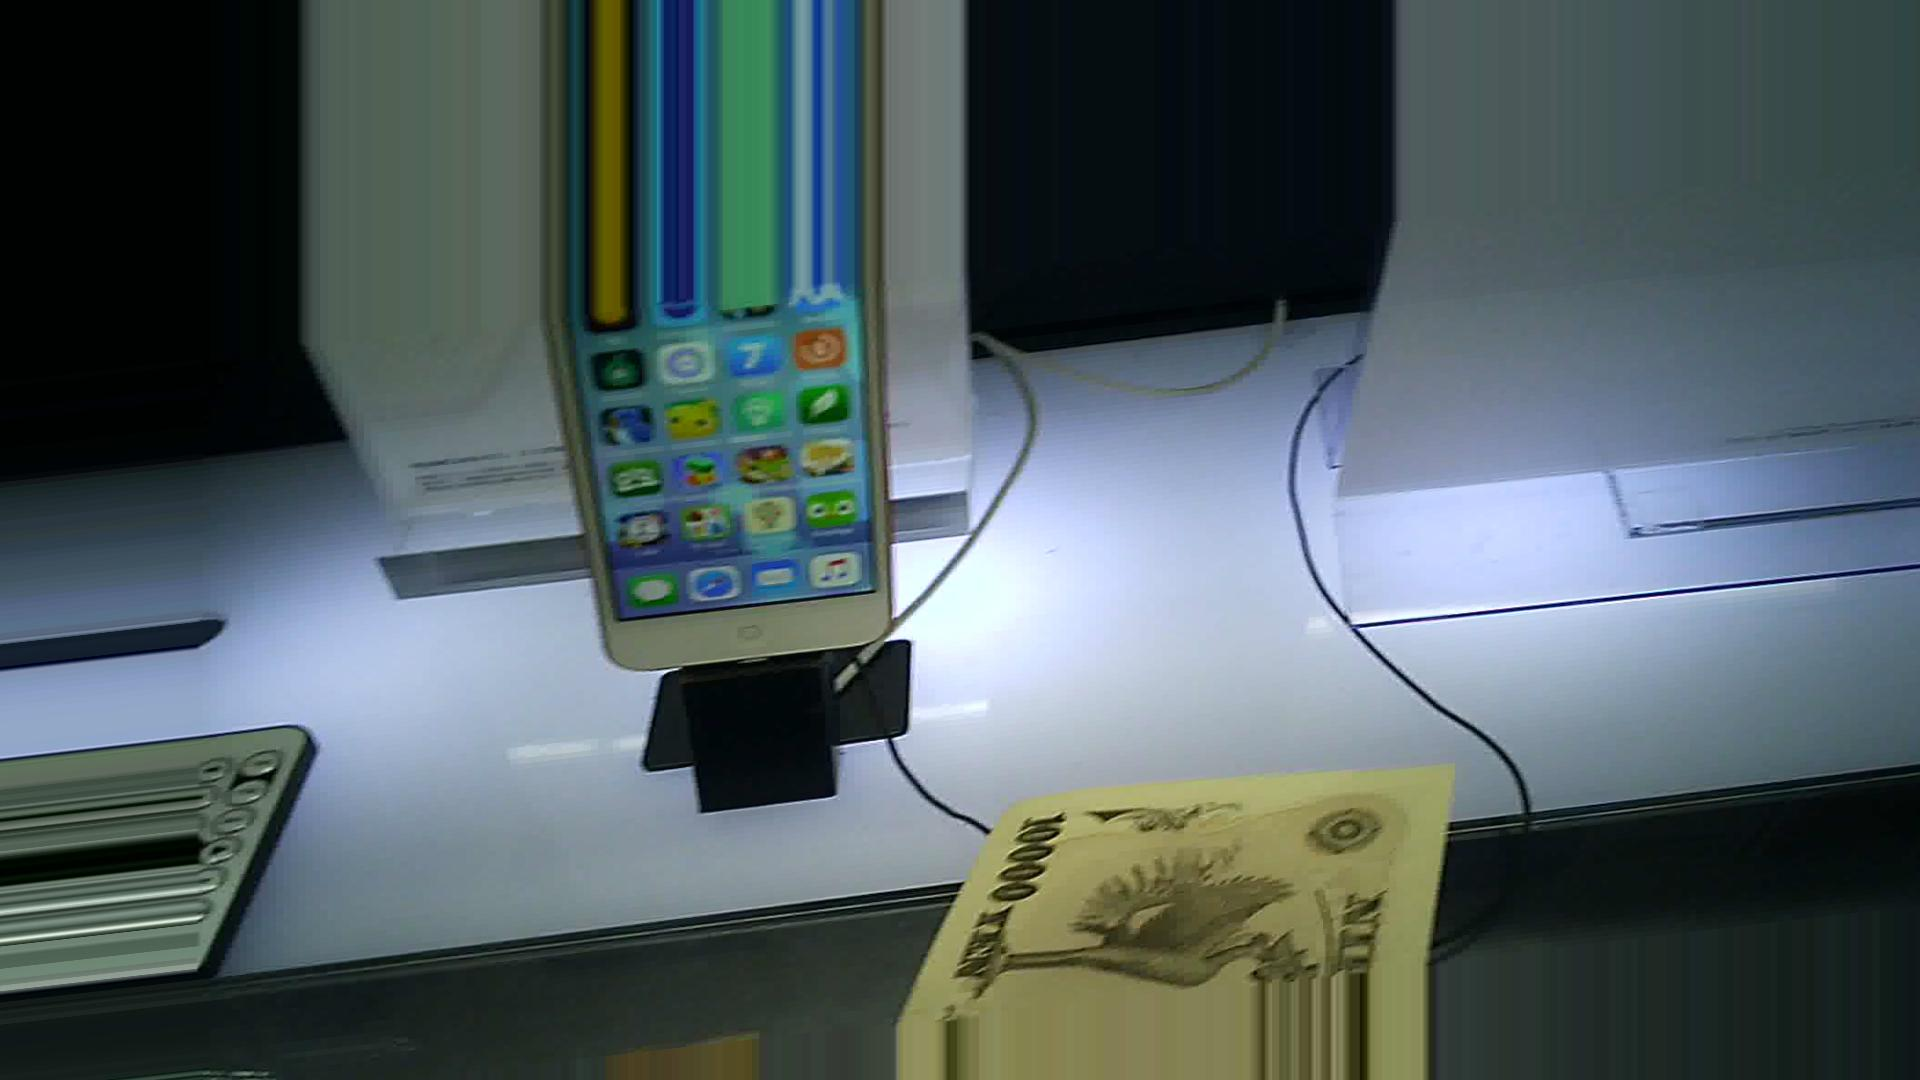10,000 Yen: (899, 774, 1465, 996)
